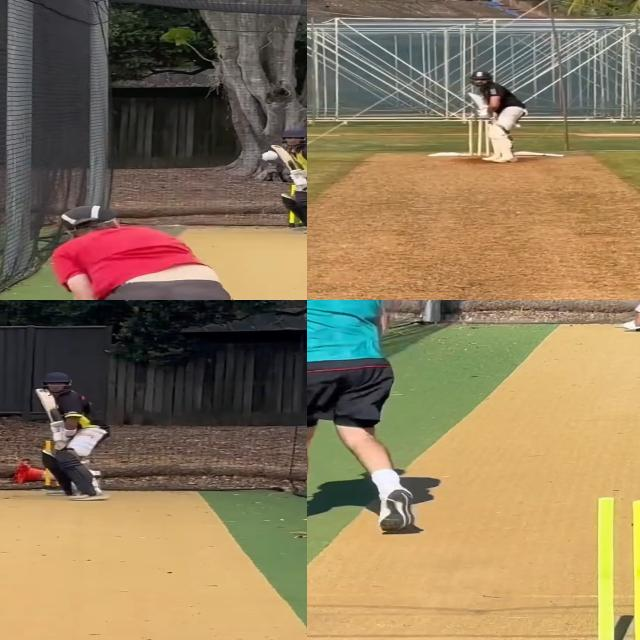Cricket ball: (260, 148, 281, 163)
Stumps: (581, 496, 640, 640), (467, 118, 491, 158)
